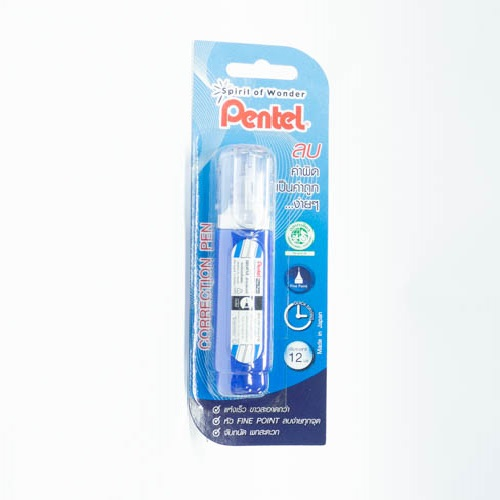Correction_fluid: (205, 137, 278, 404)
